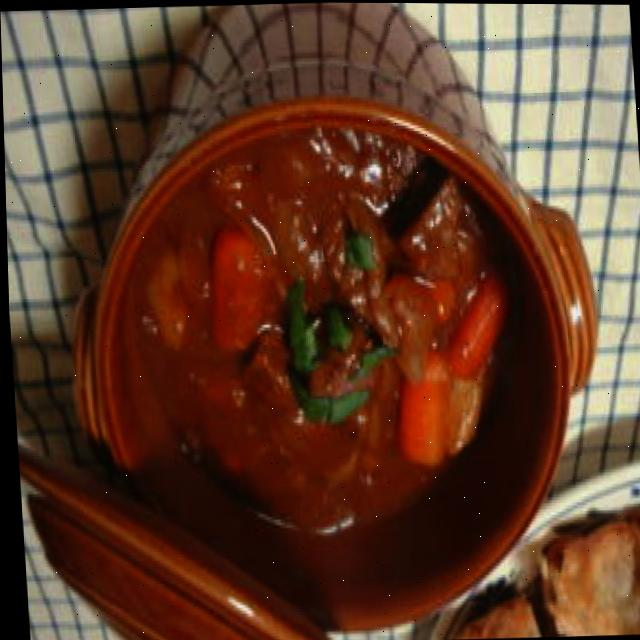汤锅炖物: (50, 15, 607, 640)
